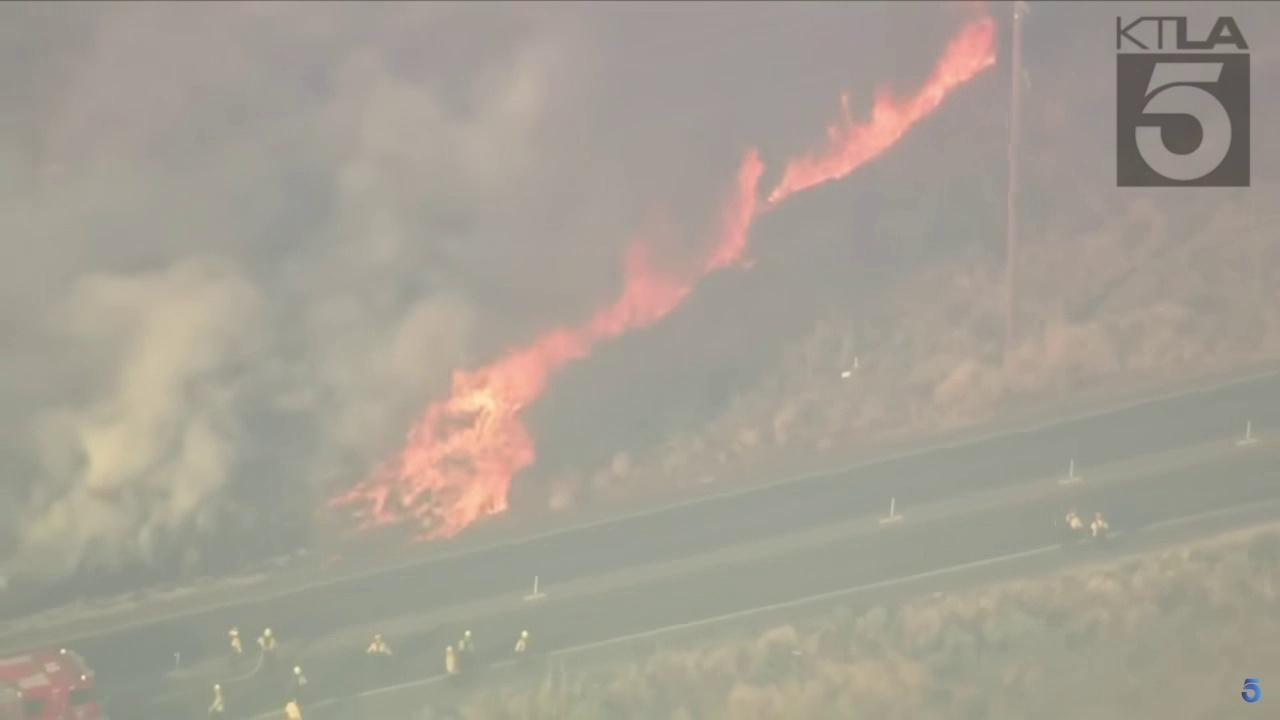fire: (328, 0, 998, 543)
smoke: (0, 0, 1011, 614)
